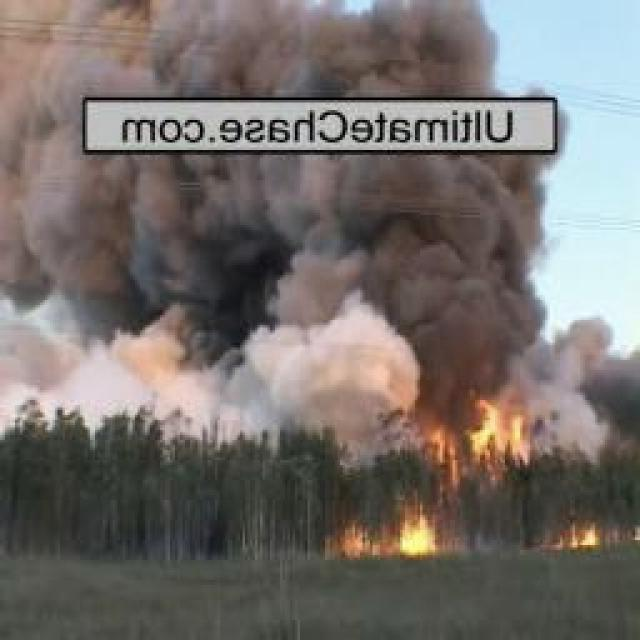Fire: (439, 389, 534, 464), (553, 515, 609, 550), (398, 508, 435, 556), (343, 525, 371, 559)
